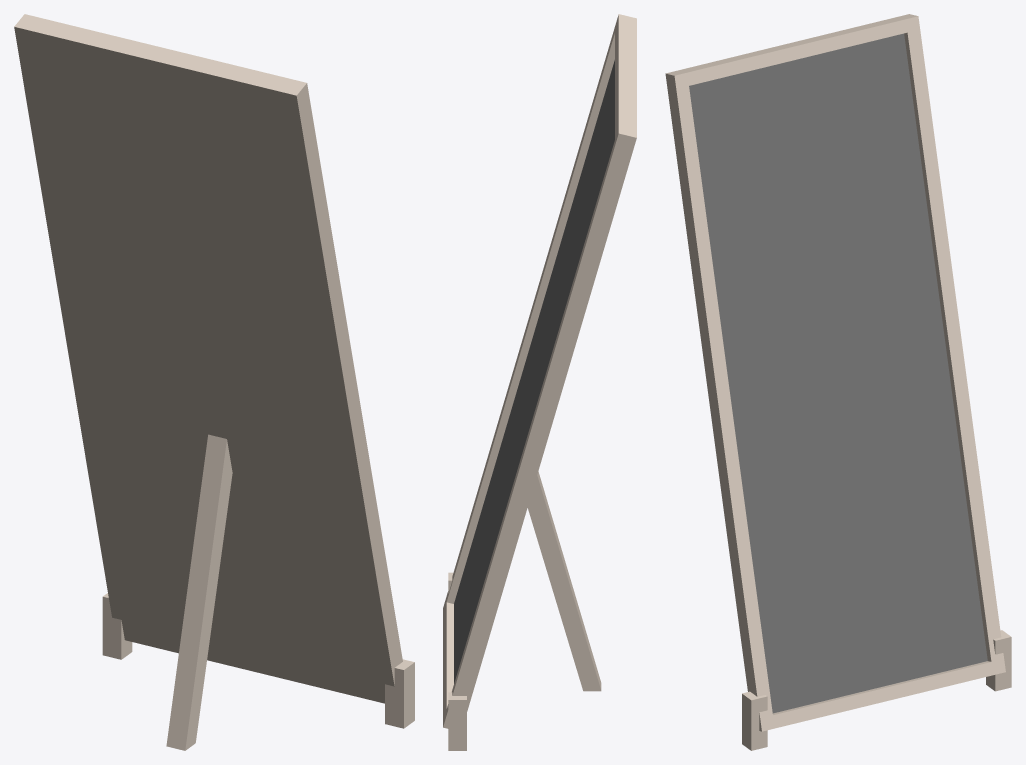
The model's file is Mirror.fbx.
3 renders of one model, left to right at view 1: azimuth 30°, elevation 25°; view 2: azimuth 150°, elevation 25°; view 3: azimuth 270°, elevation 25°, orthographic. The views are drawn at different scales.
Visible parts, largest first — view 1: Mirror, Leg3, Leg1, Leg2; view 2: Mirror, Leg3, Leg2; view 3: Mirror, Leg1, Leg2.
Boxes of the visible parts, <box> form: Mirror: <box>14,14,402,703</box>; Leg3: <box>166,434,232,750</box>; Leg1: <box>385,659,414,728</box>; Leg2: <box>102,593,132,659</box>; Mirror: <box>443,14,636,728</box>; Leg3: <box>527,471,601,691</box>; Leg2: <box>448,692,466,750</box>; Mirror: <box>665,14,1005,731</box>; Leg1: <box>742,691,767,750</box>; Leg2: <box>986,630,1011,691</box>.
Bounding box in the file's own units: 82.09 × 180 × 92.14.
